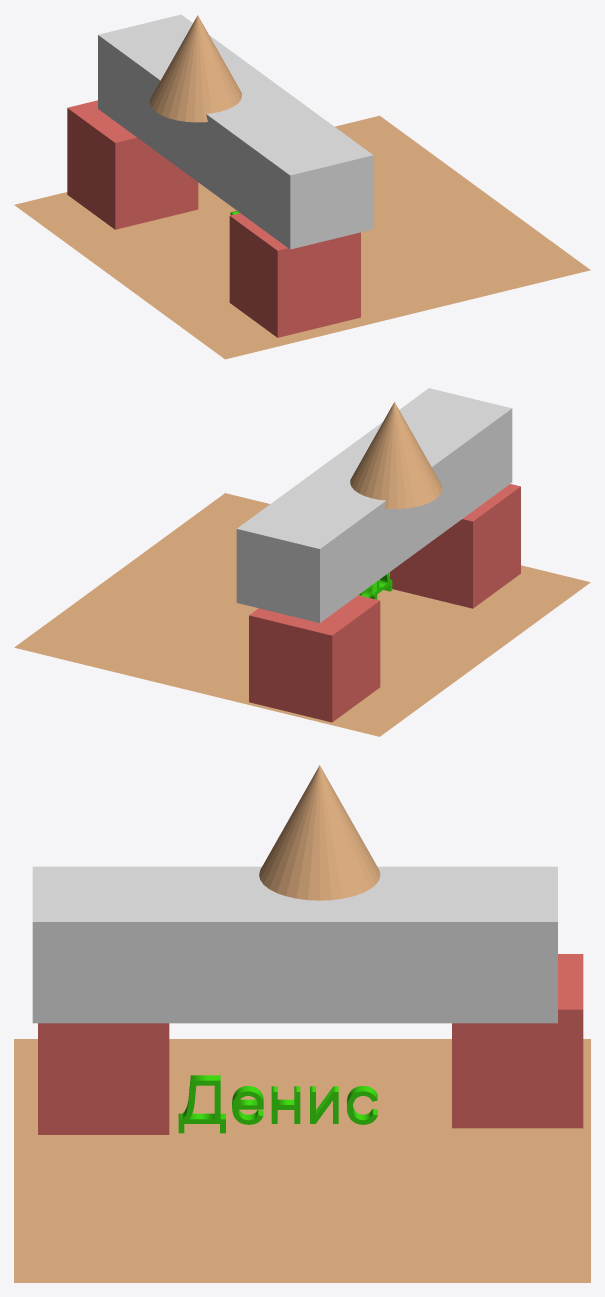
The picture shows the model from 3 angles, top to bottom: view 1: azimuth 30°, elevation 25°; view 2: azimuth 150°, elevation 25°; view 3: azimuth 270°, elevation 25°; orthographic projection. The views are drawn at different scales.
Visible parts, largest first — view 1: Плоскость, Куб.002, Куб, Куб.001, Конус; view 2: Плоскость, Куб.002, Куб.001, Куб, Конус; view 3: Плоскость, Куб.002, Куб.001, Куб, Конус, Имя.
Boxes of the visible parts, x1=… form: Плоскость: x1=14, y1=115, x2=590, y2=359; Куб.002: x1=98, y1=14, x2=373, y2=249; Куб: x1=229, y1=213, x2=360, y2=337; Куб.001: x1=67, y1=100, x2=198, y2=229; Конус: x1=150, y1=15, x2=241, y2=122; Плоскость: x1=14, y1=493, x2=590, y2=736; Куб.002: x1=236, y1=388, x2=512, y2=622; Куб.001: x1=249, y1=595, x2=380, y2=722; Куб: x1=389, y1=484, x2=520, y2=608; Конус: x1=350, y1=402, x2=442, y2=508; Плоскость: x1=14, y1=1039, x2=590, y2=1282; Куб.002: x1=32, y1=866, x2=557, y2=1023; Куб.001: x1=452, y1=954, x2=583, y2=1128; Куб: x1=38, y1=1023, x2=169, y2=1134; Конус: x1=259, y1=765, x2=380, y2=900; Имя: x1=178, y1=1075, x2=377, y2=1133.
Size of the model in its own units: 8.79 by 5.56 by 8.79.
